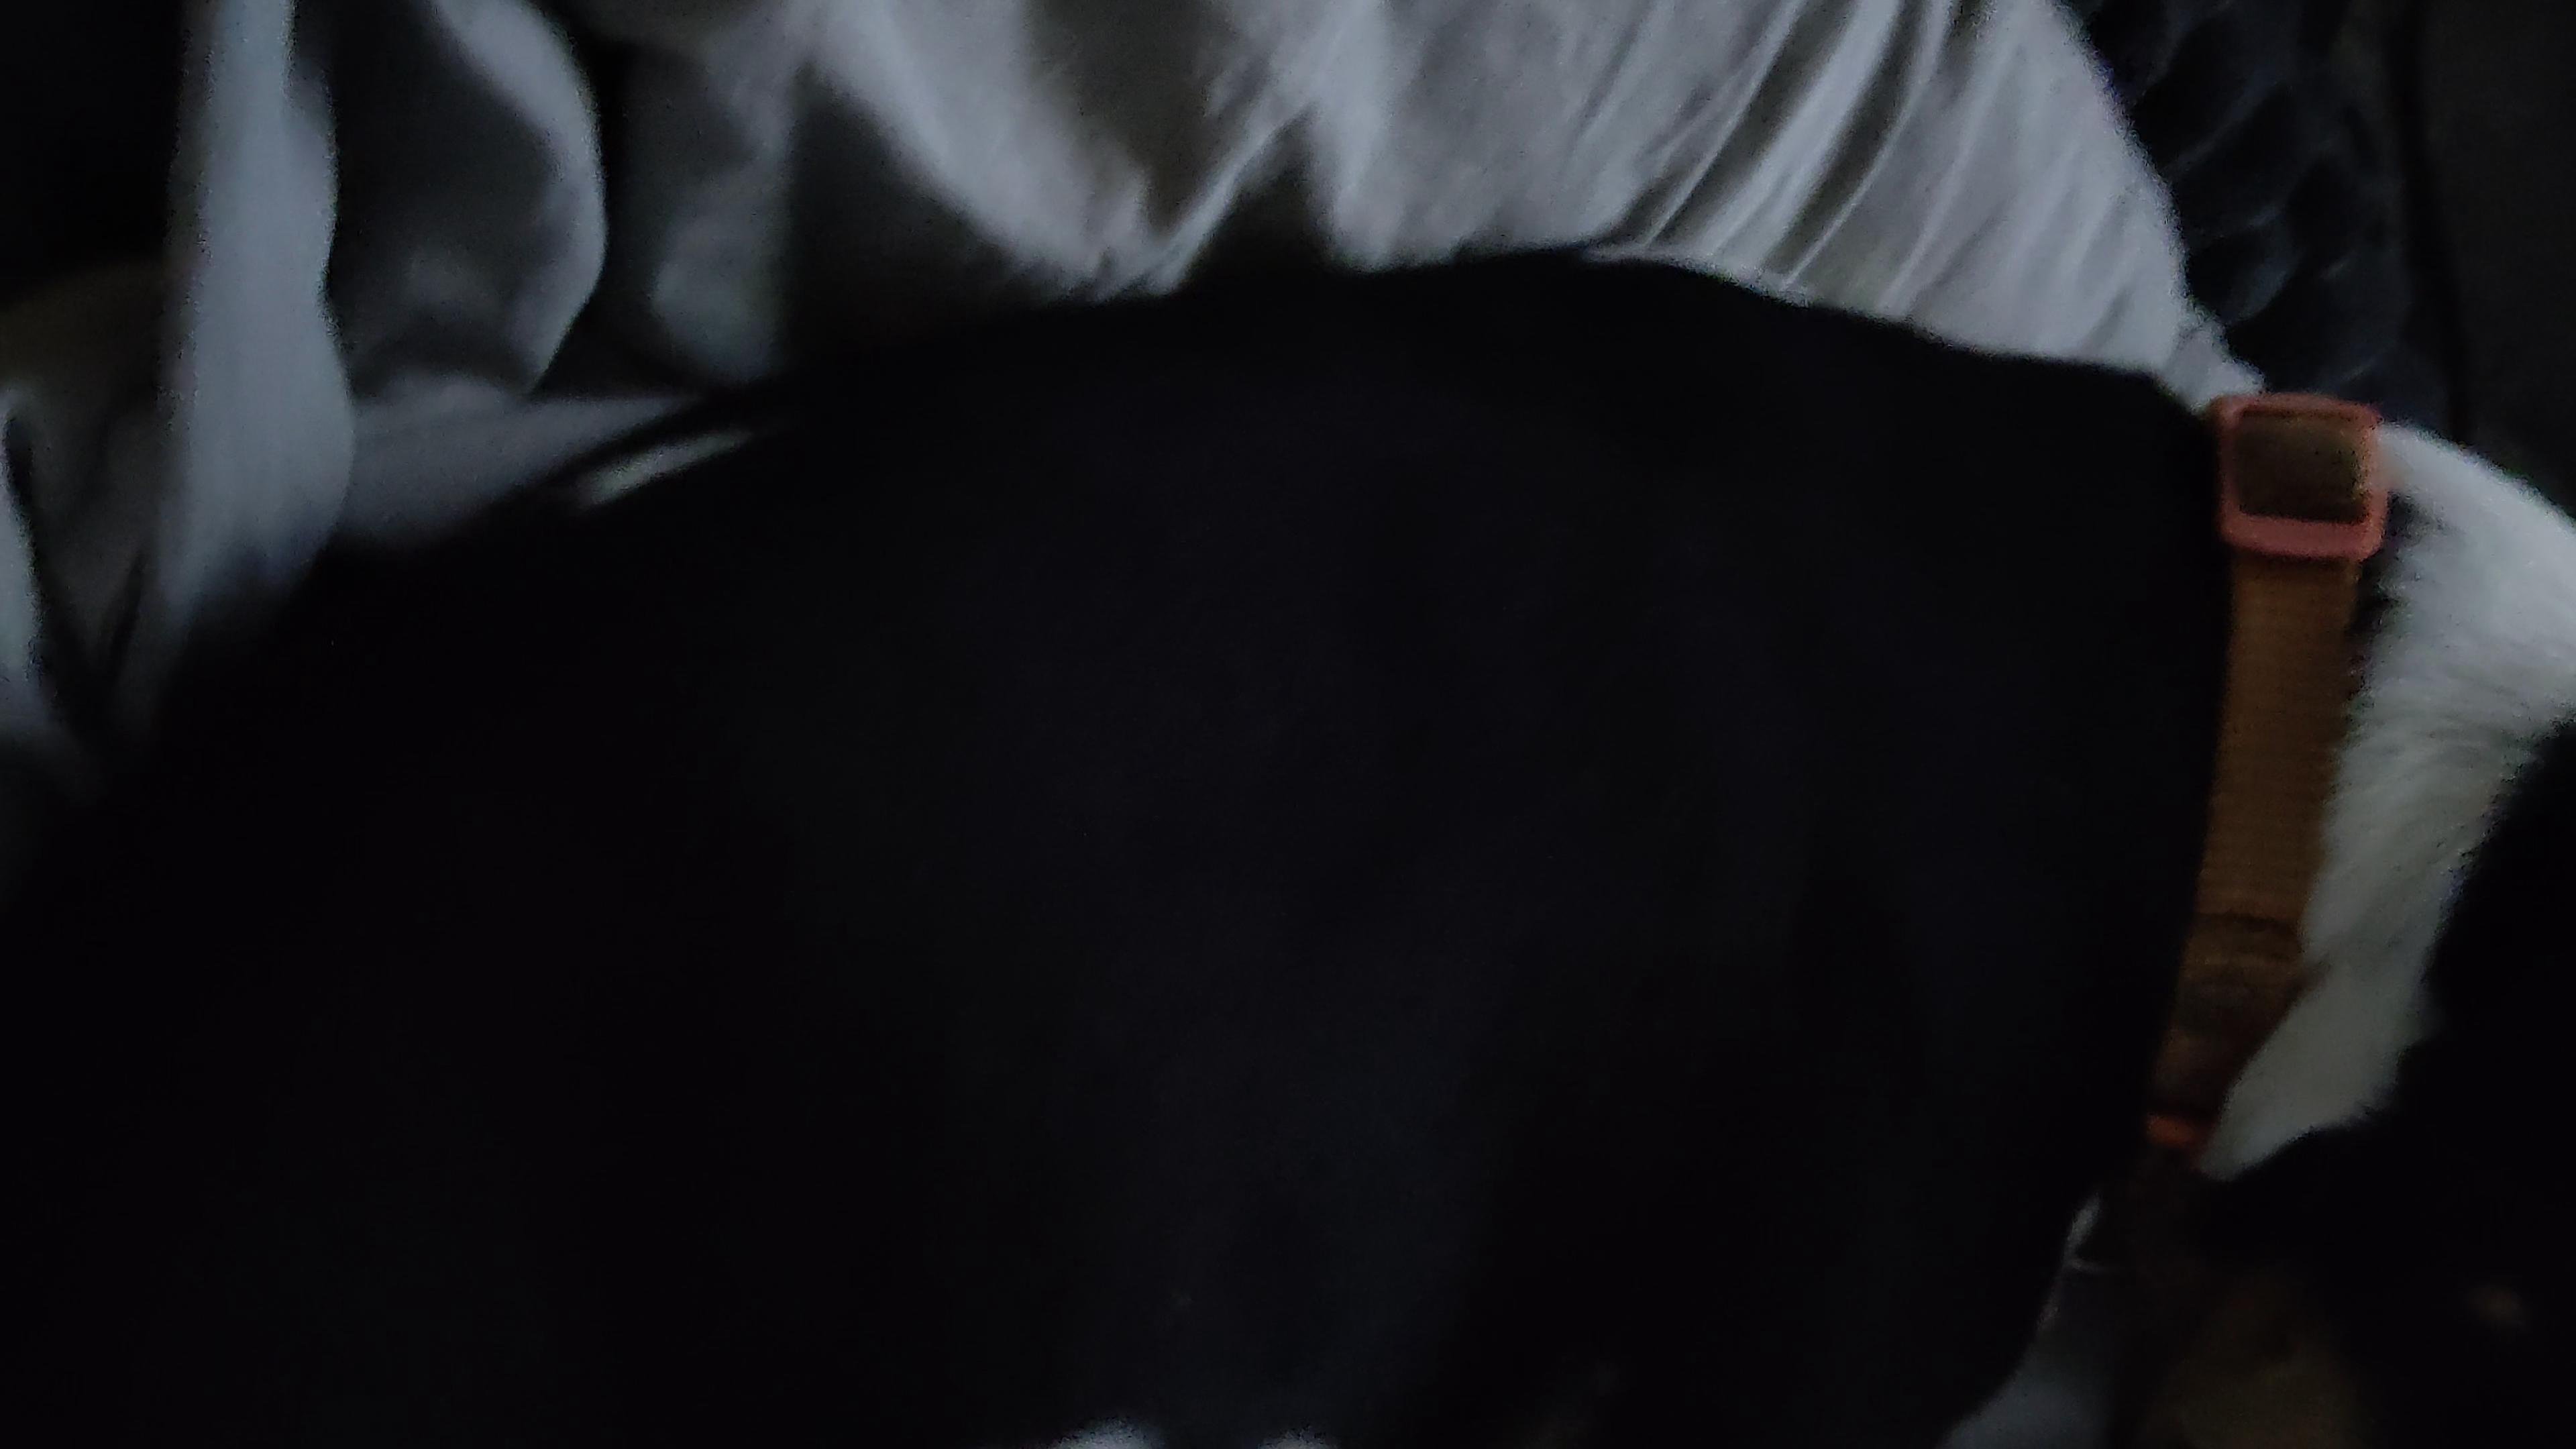Dog: (0, 228, 2576, 1449)
